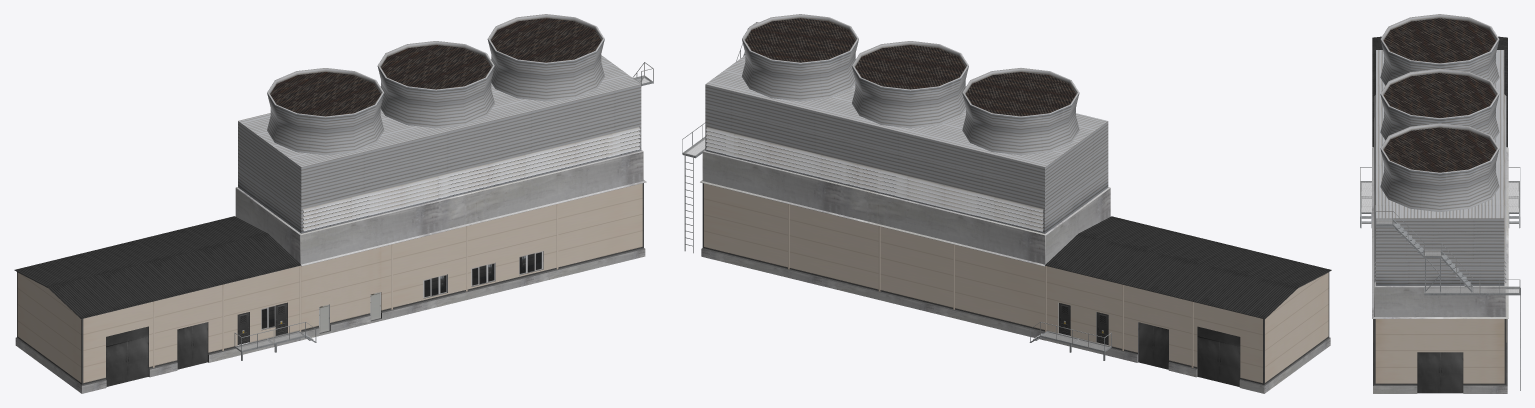
The model's file is plant-building20.glb.
The picture shows the model from 3 angles, left to right: view 1: azimuth 30°, elevation 25°; view 2: azimuth 150°, elevation 25°; view 3: azimuth 270°, elevation 25°; orthographic projection.
Parts seen in each view (by area): view 1: Object8935877; view 2: Object8935877; view 3: Object8935877.
Part boxes in pixels (<box>): Object8935877: <box>14,14,653,393</box>; Object8935877: <box>682,14,1331,393</box>; Object8935877: <box>1360,14,1520,393</box>.
Bounding box in the file's own units: 41.9 × 14.55 × 9.96.
Materials: 1 (1 with a texture image).
